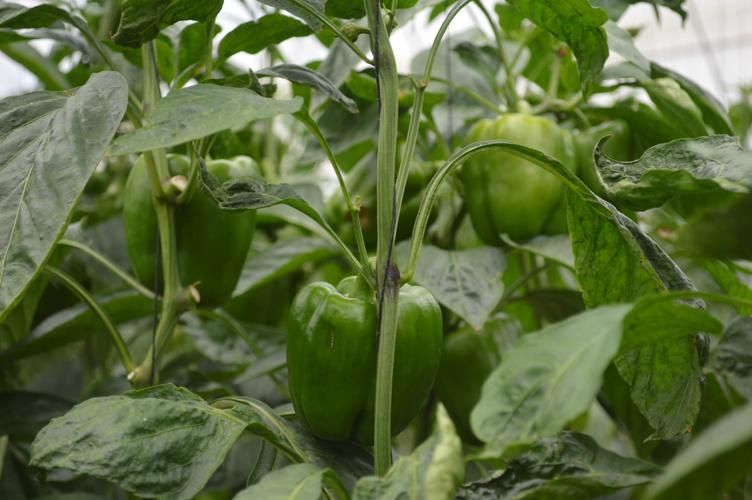BellPepper: (268, 264, 429, 449), (459, 108, 631, 240), (120, 150, 248, 317), (440, 314, 543, 458)
